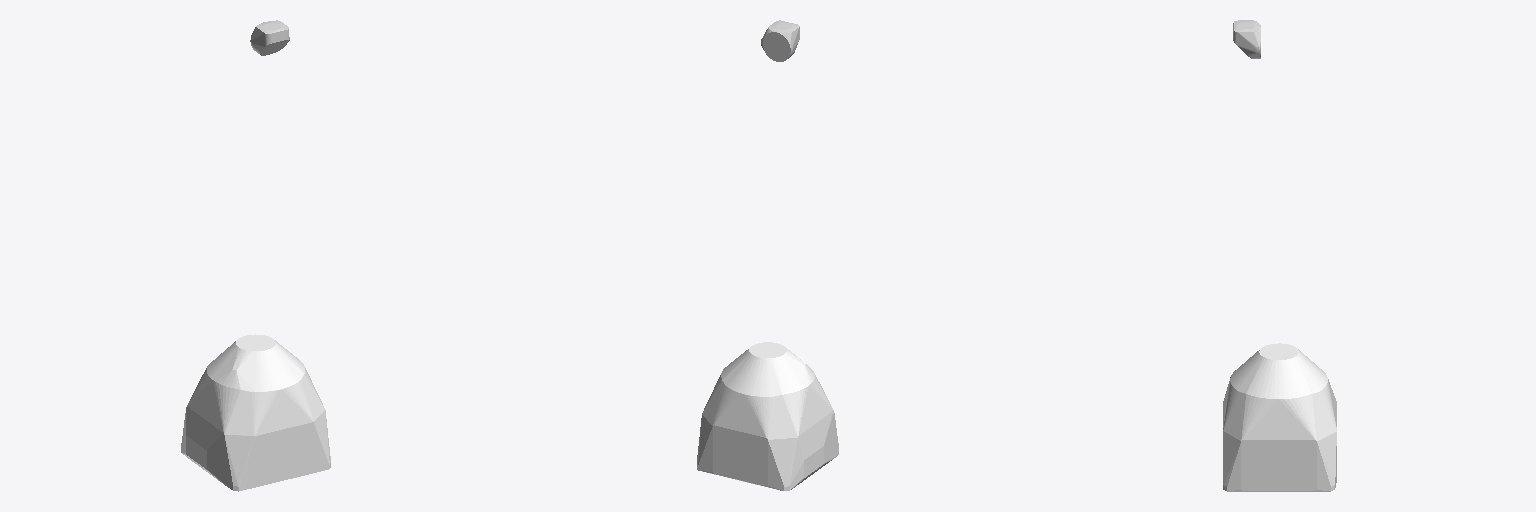
The robot description file, URDF, robot "m430iA2F":
<?xml version="1.0" ?>
<!-- =================================================================================== -->
<!-- |    This document was autogenerated by xacro from m430iA2F.xacro                 | -->
<!-- |    EDITING THIS FILE BY HAND IS NOT RECOMMENDED                                 | -->
<!-- =================================================================================== -->
<robot name="m430iA2F" xmlns:xacro="http://ros.org/wiki/xacro">
  <link name="base_link">
    <visual>
      <origin rpy="0 0 0" xyz="0 0 0"/>
      <geometry>
        <mesh filename="package://fanuc_config/meshes/m_430iA/visual/base_link.stl"/>
      </geometry>
      <material name="white">
        <color rgba="1 1 1 1"/>
      </material>
    </visual>
    <collision>
      <origin rpy="0 0 0" xyz="0 0 0"/>
      <geometry>
        <mesh filename="package://fanuc_config/meshes/m_430iA/collision/base_link.stl"/>
      </geometry>
    </collision>
  </link>
  <link name="link_1">
    <visual>
      <origin rpy="0 0 0" xyz="0 0 0"/>
      <geometry>
        <mesh filename="package://fanuc_config/meshes/m_430iA/visual/link_1.stl"/>
      </geometry>
      <material name="">
        <color rgba="0.89804 0.89804 0.89804 1"/>
      </material>
    </visual>
    <collision>
      <origin rpy="0 0 0" xyz="0 0 0"/>
      <geometry>
        <mesh filename="package://fanuc_config/meshes/m_430iA/collision/link_1.stl"/>
      </geometry>
    </collision>
  </link>
  <link name="link_2">
    <visual>
      <origin rpy="0 0 0" xyz="0 0 0"/>
      <geometry>
        <mesh filename="package://fanuc_config/meshes/m_430iA/visual/link_2.stl"/>
      </geometry>
      <material name="">
        <color rgba="0.89804 0.89804 0.89804 1"/>
      </material>
    </visual>
    <collision>
      <origin rpy="0 0 0" xyz="0 0 0"/>
      <geometry>
        <mesh filename="package://fanuc_config/meshes/m_430iA/collision/link_2.stl"/>
      </geometry>
    </collision>
  </link>
  <link name="link_3">
    <visual>
      <origin rpy="0 0 0" xyz="0 0 0.053"/>
      <geometry>
        <mesh filename="package://fanuc_config/meshes/m_430iA/visual/link_3.stl"/>
      </geometry>
      <material name="">
        <color rgba="0.89804 0.89804 0.89804 1"/>
      </material>
    </visual>
    <collision>
      <origin rpy="0 0 0" xyz="0 0 0.053"/>
      <geometry>
        <mesh filename="package://fanuc_config/meshes/m_430iA/collision/link_3.stl"/>
      </geometry>
    </collision>
  </link>
  <link name="link_4">
    <visual>
      <origin rpy="0 0 0" xyz="0 0 0"/>
      <geometry>
        <mesh filename="package://fanuc_config/meshes/m_430iA/visual/link_4.stl"/>
      </geometry>
      <material name="">
        <color rgba="0.89804 0.89804 0.89804 1"/>
      </material>
    </visual>
    <collision>
      <origin rpy="0 0 0" xyz="0 0 0"/>
      <geometry>
        <mesh filename="package://fanuc_config/meshes/m_430iA/collision/link_4.stl"/>
      </geometry>
    </collision>
  </link>
  <link name="link_5">
    <visual>
      <origin rpy="0 0 0" xyz="0 0 0"/>
      <geometry>
        <mesh filename="package://fanuc_config/meshes/m_430iA/visual/link_5.stl"/>
      </geometry>
      <material name="">
        <color rgba="0.75294 0.75294 0.75294 1"/>
      </material>
    </visual>
    <collision>
      <origin rpy="0 0 0" xyz="0 0 0"/>
      <geometry>
        <mesh filename="package://fanuc_config/meshes/m_430iA/collision/link_5.stl"/>
      </geometry>
    </collision>
  </link>
  <link name="tool0"/>
  <joint name="joint_1" type="revolute">
    <origin rpy="0 0 0" xyz="-6.0758E-19 1.2493E-16 0.44"/>
    <parent link="base_link"/>
    <child link="link_1"/>
    <axis xyz="0 0 1"/>
    <limit effort="0" lower="-3.1415" upper="3.1415" velocity="5.23598775598"/>
    <!-- calibration rising="0" falling="0" />
            <dynamics damping="0" friction="0" />
            <safety_controller soft_lower_limit="0"
                soft_upper_limit="0" k_position="0" k_velocity="0" / -->
  </joint>
  <joint name="joint_2" type="revolute">
    <origin rpy="0 0 0" xyz="-1.4097E-17 0.171 -4.4409E-16"/>
    <parent link="link_1"/>
    <child link="link_2"/>
    <axis xyz="0 1 0"/>
    <limit effort="0" lower="-2.00707" upper="2.00707" velocity="5.58505360638"/>
    <!-- calibration rising="0" falling="0" />
            <dynamics damping="0" friction="0" />
            <safety_controller soft_lower_limit="0"
                soft_upper_limit="0" k_position="0" k_velocity="0" / -->
  </joint>
  <joint name="joint_3" type="revolute">
    <!-- origin xyz="1.2197E-19 -0.171 0.403" rpy="0 0 0" / -->
    <origin rpy="0 0 0" xyz="1.2197E-19 -0.171 0.350"/>
    <parent link="link_2"/>
    <child link="link_3"/>
    <axis xyz="0 1 0"/>
    <limit effort="0" lower="-1.771457" upper="1.771457" velocity="5.58505360638"/>
    <!-- calibration rising="0" falling="0" />
            <dynamics damping="0" friction="0" />
            <safety_controller soft_lower_limit="0"
                soft_upper_limit="0" k_position="0" k_velocity="0" / -->
  </joint>
  <joint name="joint_4" type="revolute">
    <!-- origin xyz="-2.6075E-17 -0.06 0.497" rpy="0 0 0" / -->
    <origin rpy="0 0 0" xyz="-2.6075E-17 -0.06 0.55"/>
    <parent link="link_3"/>
    <child link="link_4"/>
    <axis xyz="0 1 0"/>
    <limit effort="0" lower="-2.617917" upper="2.617917" velocity="6.28318530718"/>
    <!-- calibration rising="0" falling="0" />
            <dynamics damping="0" friction="0" />
            <safety_controller soft_lower_limit="0"
                soft_upper_limit="0" k_position="0" k_velocity="0" / -->
  </joint>
  <joint name="joint_5" type="revolute">
    <origin rpy="0 0 0" xyz="1.4734E-16 -0.035 0.065"/>
    <parent link="link_4"/>
    <child link="link_5"/>
    <axis xyz="0 0 1"/>
    <limit effort="0" lower="-4.71225" upper="4.71225" velocity="20.9439510239"/>
    <!-- calibration rising="0" falling="0" />
            <dynamics damping="0" friction="0" />
            <safety_controller soft_lower_limit="0"
                soft_upper_limit="0" k_position="0" k_velocity="0" / -->
  </joint>
  <joint name="joint_5-tool0" type="fixed">
    <parent link="link_5"/>
    <child link="tool0"/>
    <origin rpy="0 0 0" xyz="0 0 0"/>
  </joint>
</robot>

--- What the picture shows (computed from the rendered views, not written in the file) ---
3 views of the same robot in one strip: view 1: azimuth 30°, elevation 25°; view 2: azimuth 150°, elevation 25°; view 3: azimuth 270°, elevation 25° (orthographic).
Model m430iA2F with 7 links and 6 joints (5 revolute, 1 fixed), rooted at base_link, posed every joint at zero.
Links seen in each view (by area): view 1: base_link, link_4; view 2: base_link, link_4; view 3: base_link, link_4.
Link boxes in pixels (box(x1,y1,x2,y2)): base_link: box(181, 334, 330, 491); link_4: box(250, 20, 289, 55); base_link: box(697, 342, 838, 490); link_4: box(761, 20, 799, 61); base_link: box(1223, 343, 1336, 491); link_4: box(1233, 20, 1260, 58).
Bounding box of the posed robot: 0.3415 × 0.325 × 1.39 m (x, y, z).
2 mesh visuals loaded from 6 distinct referenced files (2 binary STL); not drawn: 4 (reference not matched to a file when rendering).